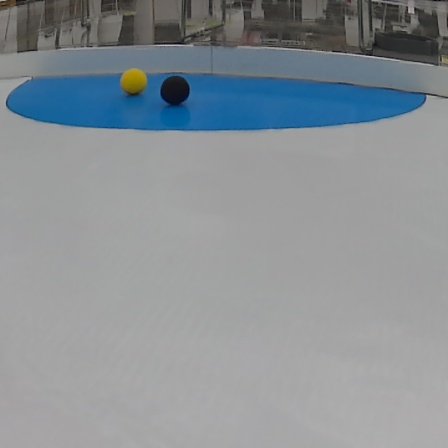black: (160, 77, 189, 106)
blue_base: (8, 71, 429, 134)
yellow: (119, 67, 144, 93)
